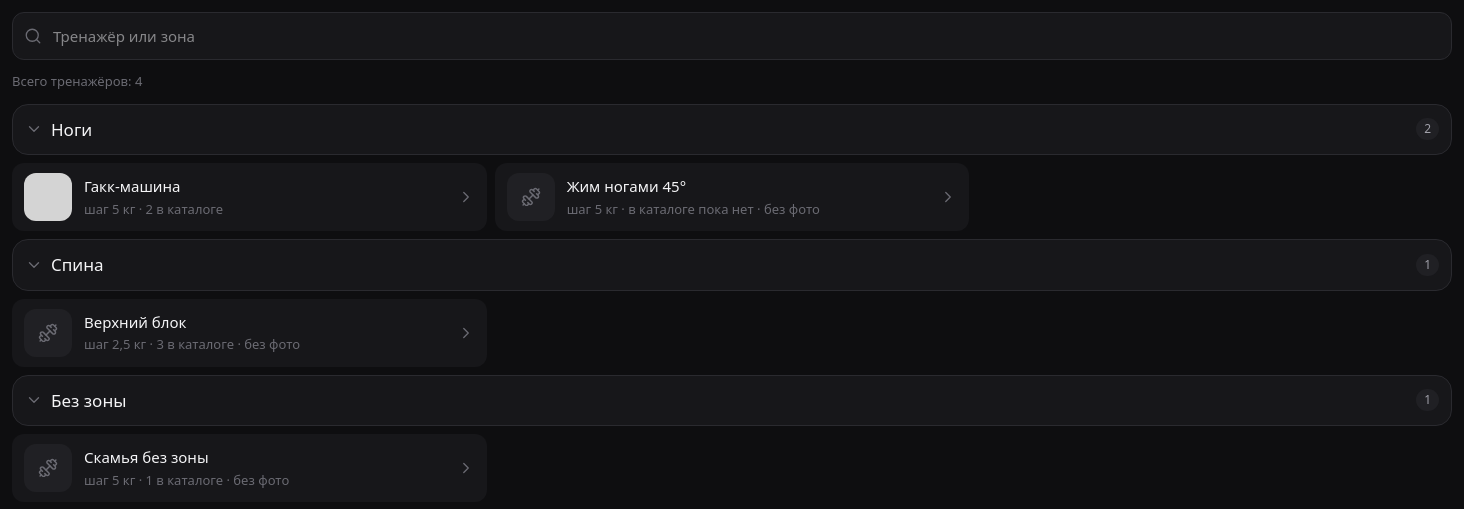
Test: поиск оставляет только подходящие тренажёры и зоны
The width and height of the screenshot is (1464, 509).
In the search field named "Поиск по тренажёрам": (732, 36) x1=12 y1=12 x2=1452 y2=60, type "блок"
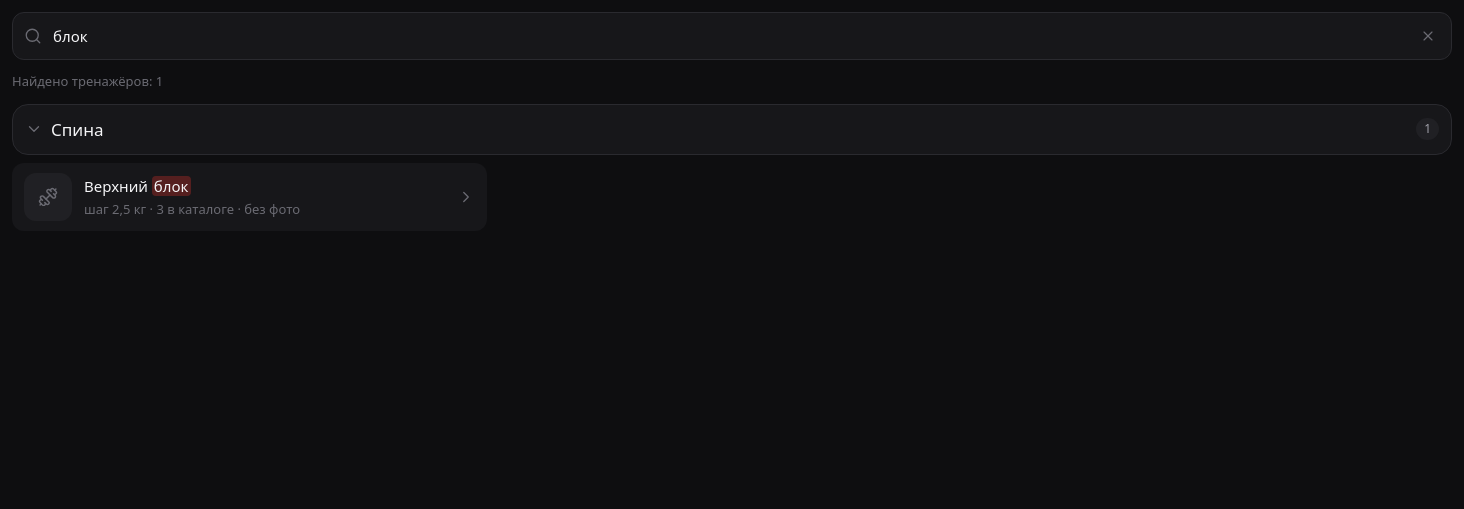
Check: the text "блок" is shown, box x1=152 y1=176 x2=190 y2=196
Check: the text "Найдено тренажёров: 1" is shown, box x1=12 y1=72 x2=163 y2=90
Check: the button "Гакк-машина" is gone
